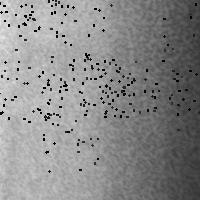pitted_surface: (80, 3, 197, 197), (47, 53, 105, 113), (104, 59, 162, 116), (40, 112, 97, 170), (0, 61, 53, 121), (65, 54, 122, 108), (15, 0, 70, 49), (50, 0, 110, 34), (163, 0, 200, 51), (169, 70, 200, 129), (0, 0, 33, 30)
